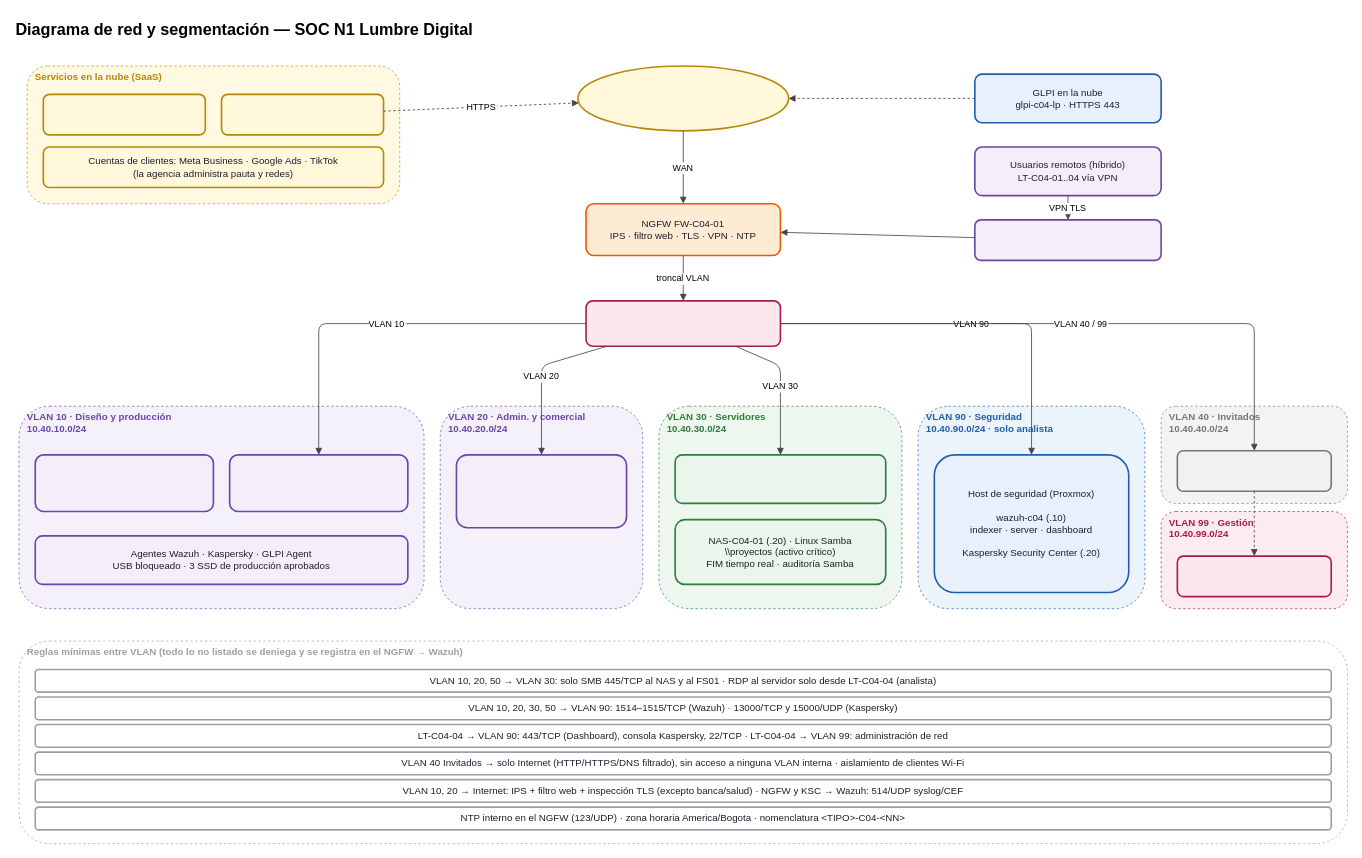
The diagram is 1362 pixels wide and 858 high, and some of its shapes have lost their labels. Each missing label, with the centre of its shape:
4 × portátil Win11 LT-C04-01..04 gerencia · community comercial · TI/N1: the point at 541,491
6 × Windows 11 WS-C04-01..06 video · 3D · render: the point at 318,483
8 × macOS MAC-C04-01..08 iMac / Mac mini: the point at 124,483
AP-C04-01/02 (.3 .4) switch .2 · NGFW .1: the point at 1254,576
Drive de entregas a clientes: the point at 302,114
Google Workspace correo · Drive · identidad (MFA): the point at 124,114
Internet ISP fibra 300 Mbps: the point at 683,98
SRV-C04-FS01 (.10) Windows Server 2019 · archivos: the point at 780,479
Switch SW-C04-01 (16p) troncal 802.1Q · 7 VLAN: the point at 683,323
VLAN 50 · Pool VPN 10.40.50.0/24: the point at 1068,240
Wi-Fi invitados solo Internet: the point at 1254,471
